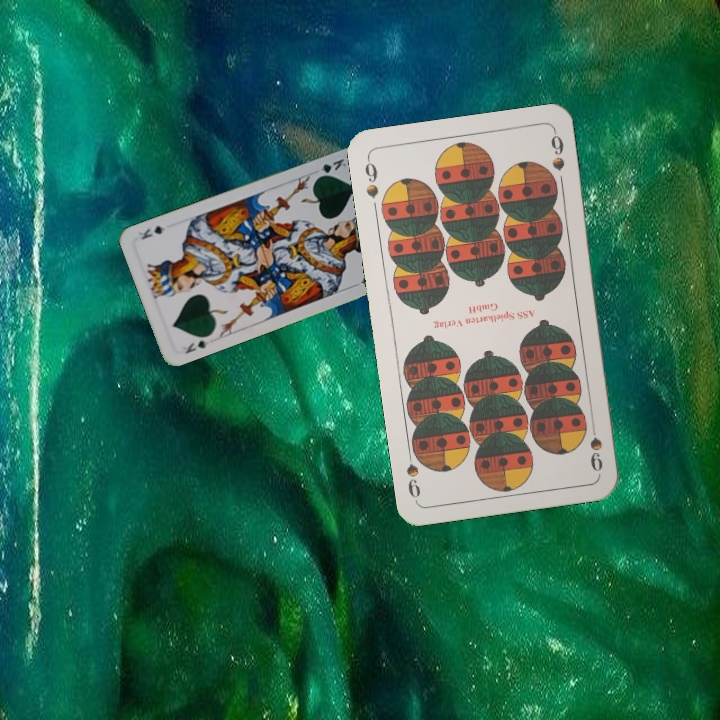GK: (312, 154, 350, 181), (181, 336, 212, 357)
S9: (360, 154, 381, 201), (586, 429, 606, 475)
